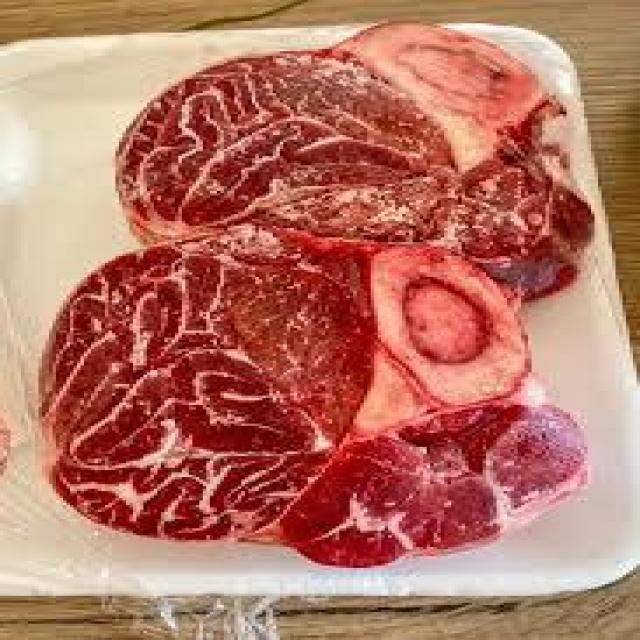beef: (22, 243, 640, 558)
